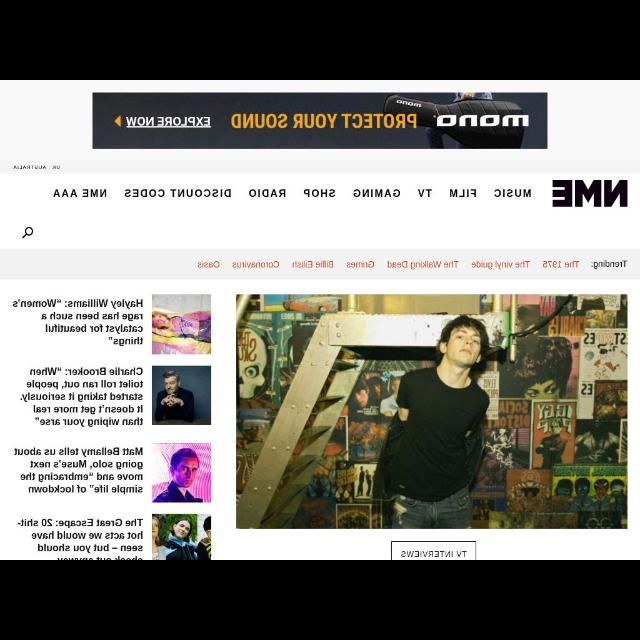icon: (21, 226, 34, 240)
iframe: (94, 90, 546, 150)
image: (236, 292, 624, 528), (152, 294, 212, 354), (150, 443, 210, 503), (153, 364, 209, 426), (548, 178, 632, 210), (152, 514, 210, 554)
multitab: (2, 254, 636, 280)
text: (18, 366, 144, 426), (11, 298, 145, 348), (14, 447, 144, 497), (12, 519, 142, 559), (385, 255, 459, 273), (122, 187, 232, 199), (469, 255, 533, 272), (51, 187, 107, 201), (246, 184, 288, 202), (398, 549, 468, 559), (354, 184, 404, 198), (540, 257, 580, 273), (492, 188, 536, 202), (11, 160, 62, 172), (232, 258, 282, 270), (292, 258, 338, 270), (590, 258, 628, 272), (302, 186, 336, 198), (346, 258, 378, 270), (195, 258, 222, 270), (448, 188, 478, 198), (418, 185, 432, 199)
textbutton: (390, 543, 476, 559)
toolbar: (0, 173, 638, 250)
